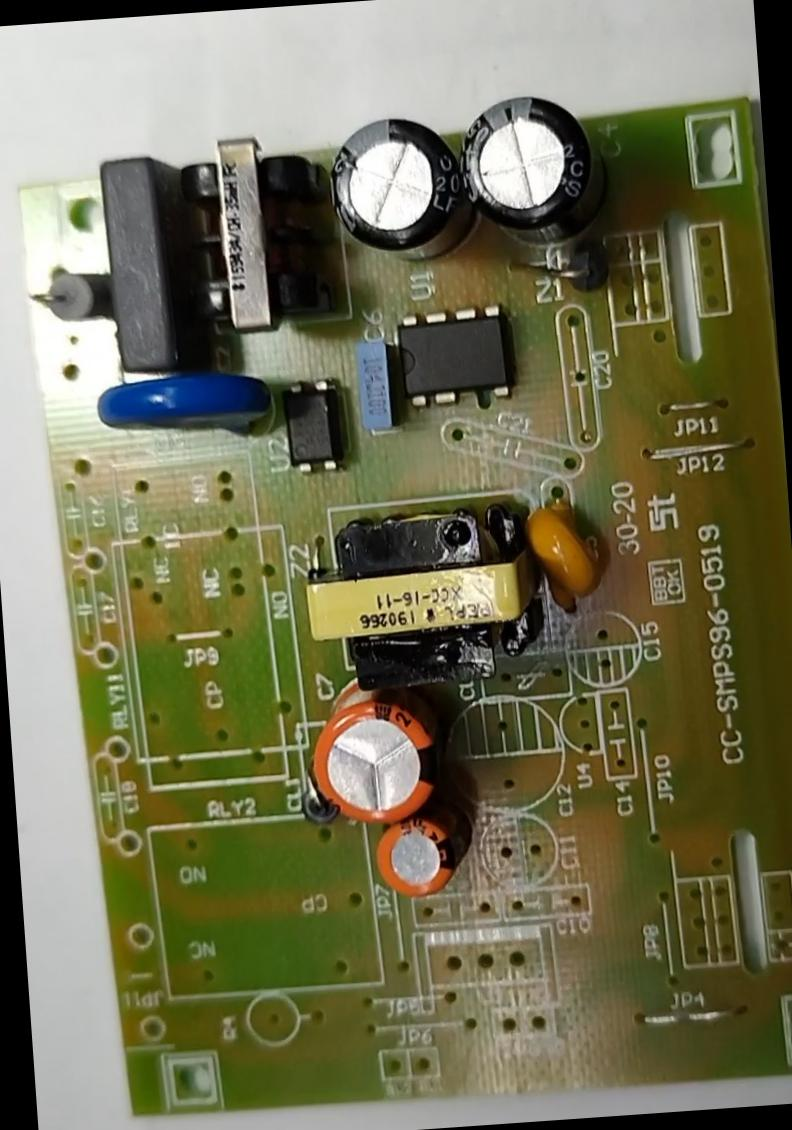Cap1: (308, 690, 447, 824)
Cap2: (374, 814, 473, 899)
Cap3: (322, 110, 473, 264)
Cap4: (456, 91, 601, 250)
MOSFET: (390, 304, 520, 410)
Mov: (94, 372, 270, 448)
Resistor: (28, 264, 114, 333)
Transformer: (296, 505, 541, 676), (176, 130, 330, 336)
